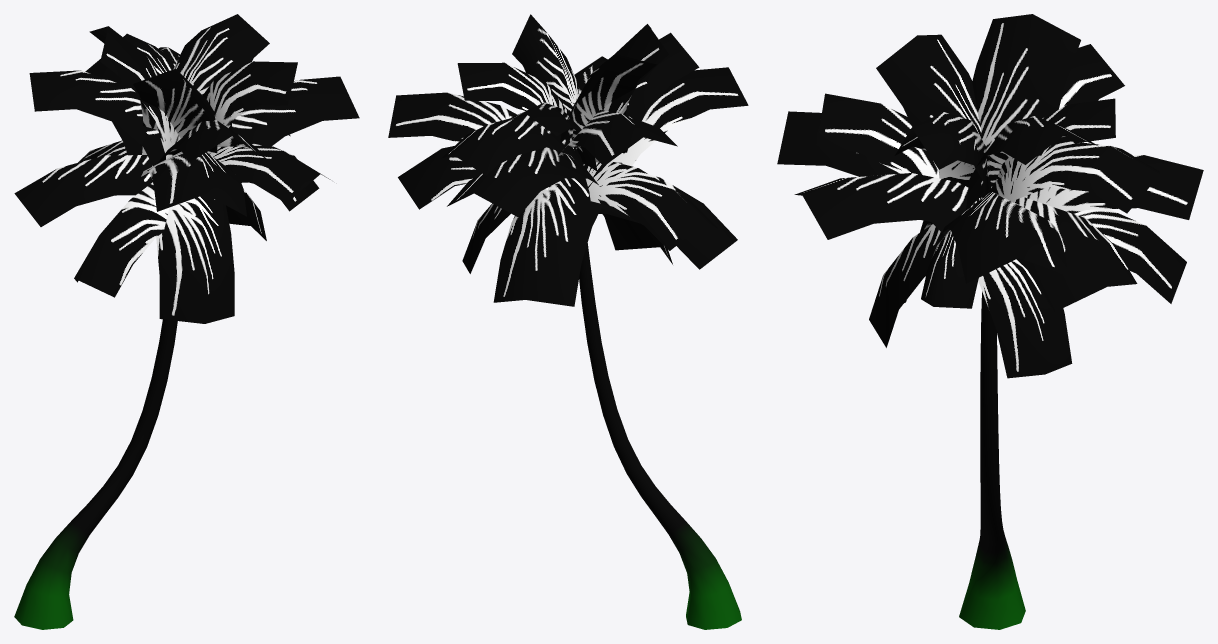
The model's file is P_CoconutPalmB03.obj.
3 views of the same model, side by side, from view 1: azimuth 30°, elevation 25°; view 2: azimuth 150°, elevation 25°; view 3: azimuth 270°, elevation 25° (orthographic). The views are drawn at different scales.
Bounding box in the file's own units: 7.83 × 12.62 × 7.53.
